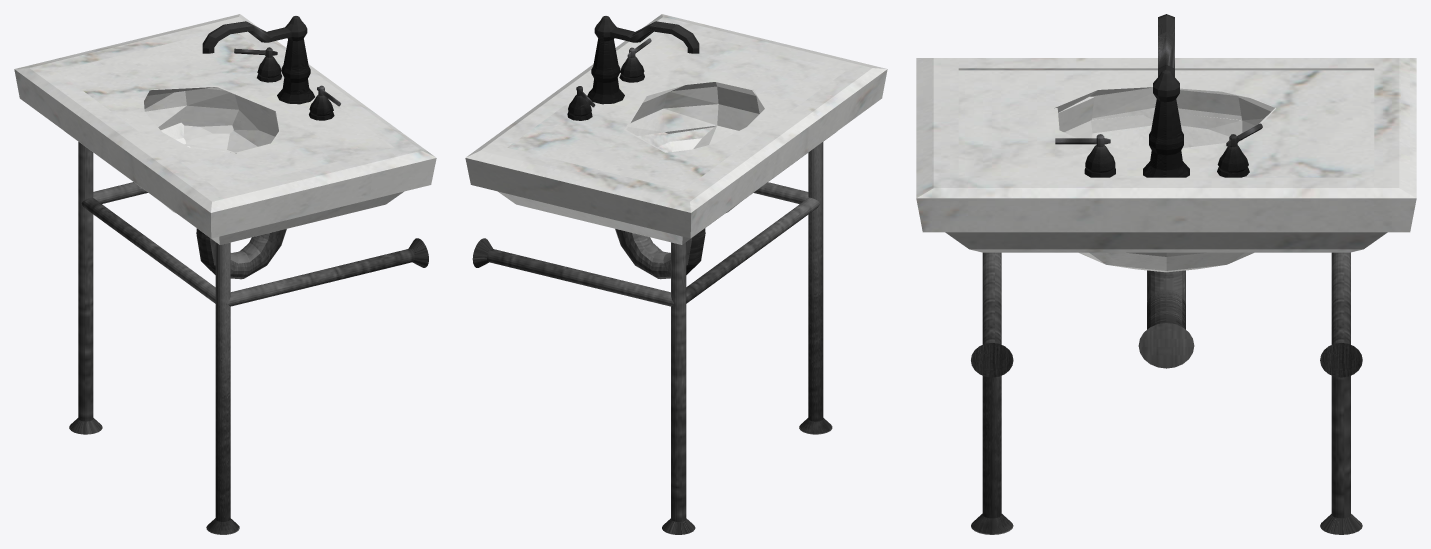
File: sink_no_tentacle.fbx
3 views of the same model, side by side, from view 1: azimuth 30°, elevation 25°; view 2: azimuth 150°, elevation 25°; view 3: azimuth 270°, elevation 25° (orthographic). The views are drawn at different scales.
Visible parts, largest first — view 1: polySurface21; view 2: polySurface21; view 3: polySurface21.
Boxes of the visible parts, <box> form: polySurface21: <box>14,14,436,534</box>; polySurface21: <box>465,14,887,534</box>; polySurface21: <box>916,14,1416,534</box>.
Size of the model in its own units: 0.1418 by 0.2456 by 0.2009.
